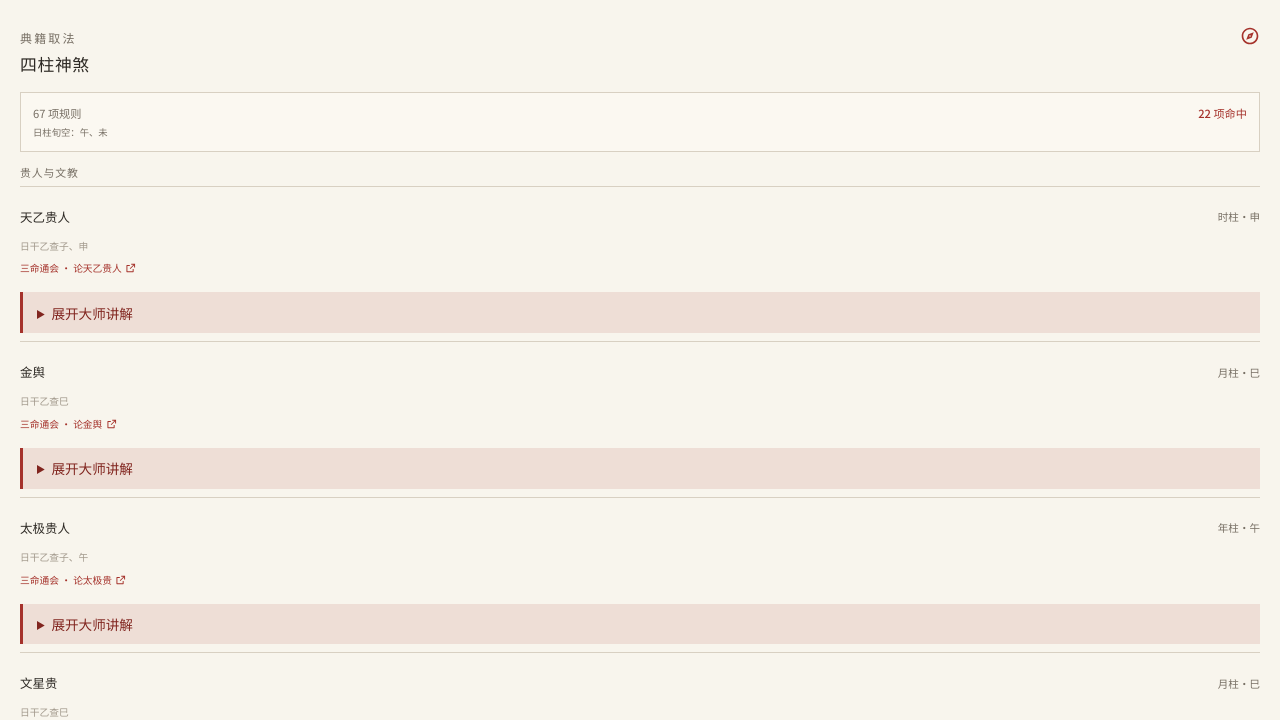
Test: ShenshaPanel › renders source-labelled hits and expandable master commentary
The width and height of the screenshot is (1280, 720).
Expected: the heading "四柱神煞" is shown, x1=20 y1=52 x2=90 y2=76
Expected: the text "67 项规则" is shown, x1=33 y1=105 x2=82 y2=121
Click the heading "展开大师讲解" below "论天乙贵人" at [92, 313], box x1=51 y1=303 x2=133 y2=323
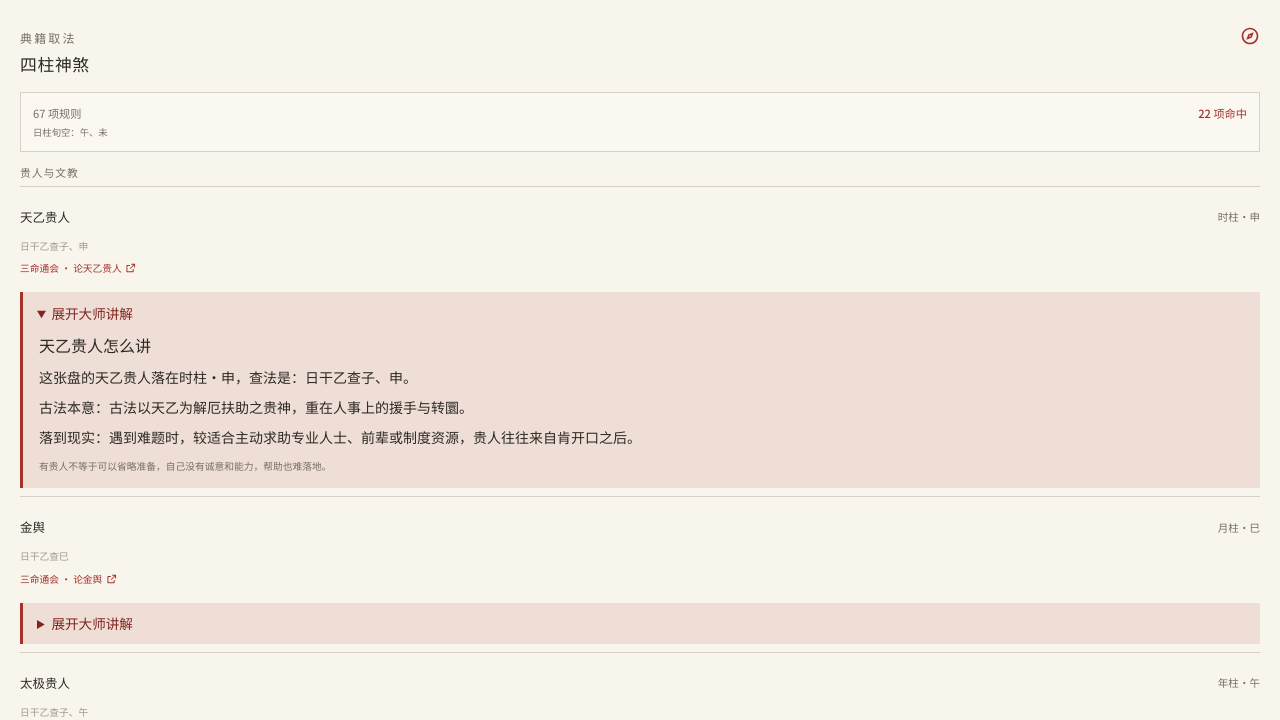
Now the heading "天乙贵人怎么讲" is shown, box x1=39 y1=333 x2=151 y2=357
Now the text "这张盘的天乙贵人落在时柱·申，查法是：日干乙查子、申。" is shown, box x1=39 y1=367 x2=417 y2=387
